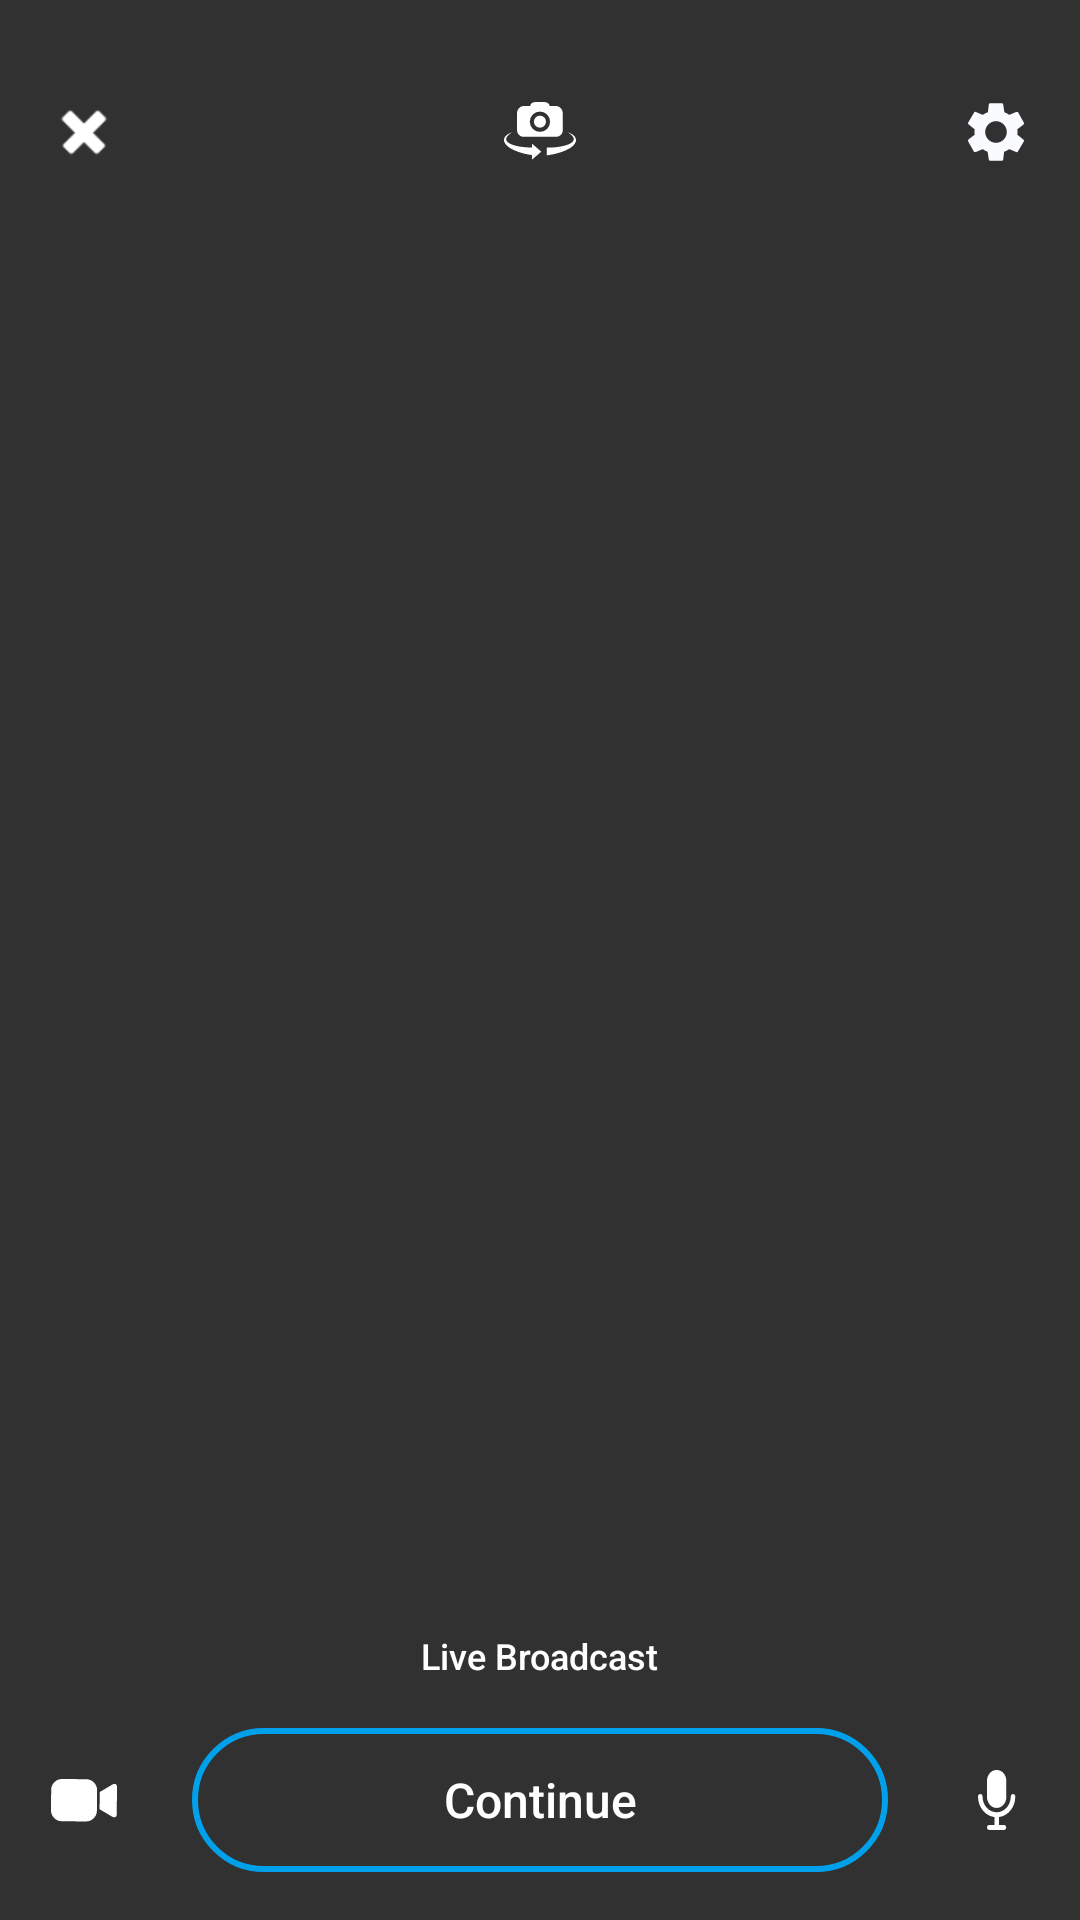

Locate icon controls on the screen. Image size 1080px×1920px, boxes as (x1, y1, x2, y2).
audio: (978, 1770, 1016, 1830)
camera switch: (504, 102, 576, 160)
delete: (61, 110, 107, 155)
settings: (968, 103, 1024, 161)
video: (51, 1779, 117, 1822)
